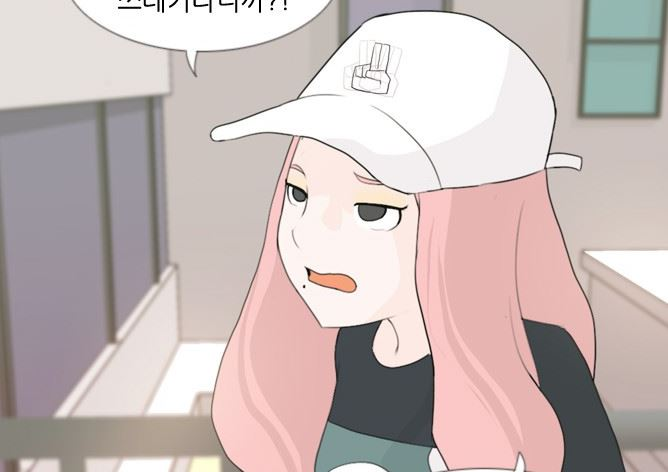hat: (207, 8, 563, 196)
